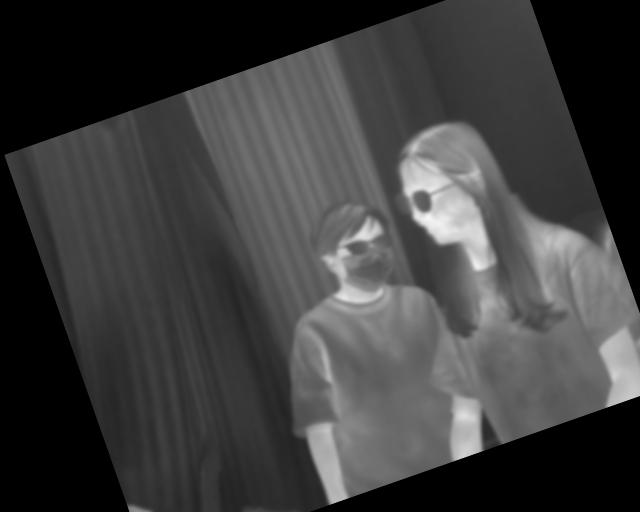face: (301, 188, 408, 307)
